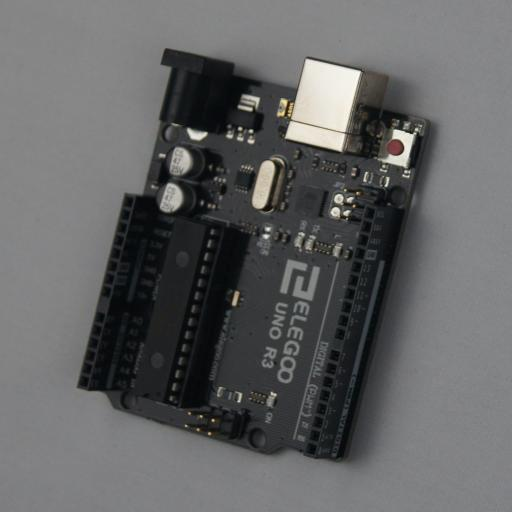Arduino Uno -Black-: (77, 48, 437, 464)
